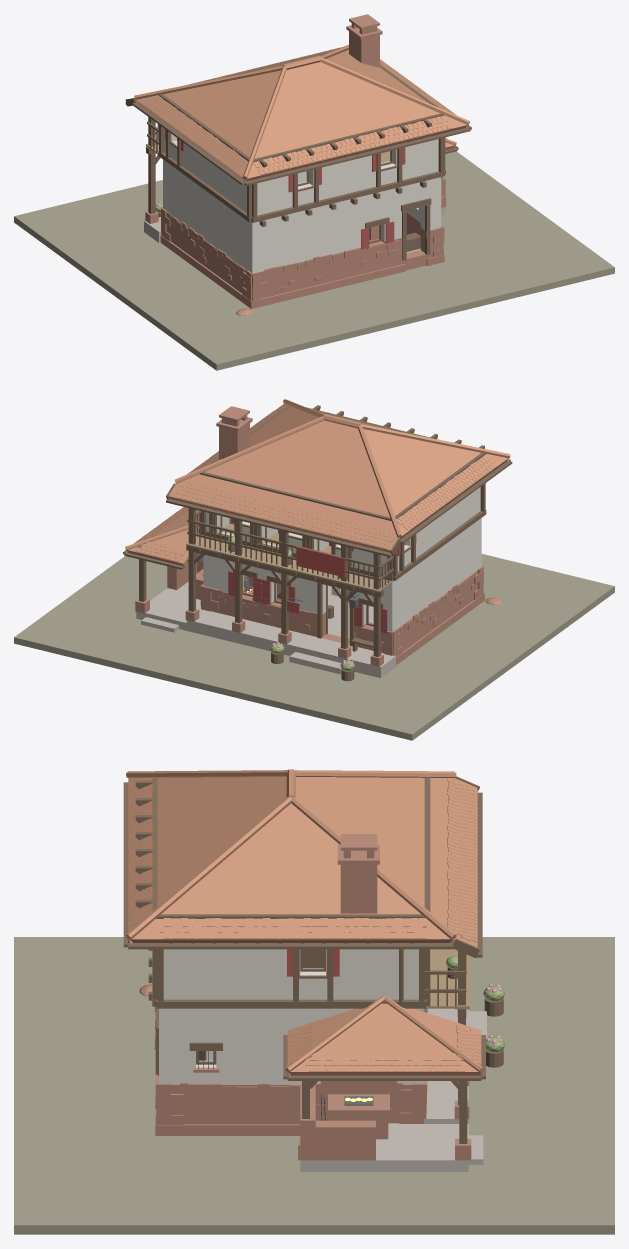
The model's file is tavern-13-gallery.glb.
The picture shows the model from 3 angles, top to bottom: view 1: azimuth 30°, elevation 25°; view 2: azimuth 150°, elevation 25°; view 3: azimuth 270°, elevation 25°; orthographic projection. The views are drawn at different scales.
Visible parts, largest first — view 1: zemlya__m00, krysha__m03, obolochka__m01, obolochka__m00, obolochka__m02, krysha__m02, krysha__m00, obolochka__m05; view 2: zemlya__m00, krysha__m03, obolochka__m02, obolochka__m01, obolochka__m00, obolochka__m11, krysha__m02, obolochka__m05, obolochka__m09, krysha__m00, poly__m11, melochi__m02; view 3: zemlya__m00, krysha__m03, obolochka__m01, obolochka__m00, obolochka__m02, obolochka__m11, krysha__m02, krysha__m00, mebel__m00, obolochka__m09, melochi__m02, melochi__m07.
Part boxes in pixels (x1,y1,x2,y2): zemlya__m00: [14, 151, 614, 370]; krysha__m03: [131, 45, 469, 181]; obolochka__m01: [163, 128, 441, 273]; obolochka__m00: [145, 177, 446, 308]; obolochka__m02: [146, 48, 445, 260]; krysha__m02: [125, 98, 471, 185]; krysha__m00: [346, 14, 382, 67]; obolochka__m05: [165, 129, 405, 249]; zemlya__m00: [14, 554, 614, 740]; krysha__m03: [125, 399, 510, 566]; obolochka__m02: [137, 405, 486, 656]; obolochka__m01: [203, 487, 481, 631]; obolochka__m00: [135, 560, 484, 666]; obolochka__m11: [136, 582, 395, 678]; krysha__m02: [123, 459, 512, 569]; obolochka__m05: [228, 518, 416, 633]; obolochka__m09: [186, 536, 393, 592]; krysha__m00: [216, 406, 252, 459]; poly__m11: [328, 585, 373, 638]; melochi__m02: [228, 544, 382, 681]; zemlya__m00: [14, 937, 614, 1234]; krysha__m03: [126, 769, 483, 1075]; obolochka__m01: [159, 949, 423, 1084]; obolochka__m00: [154, 1008, 471, 1160]; obolochka__m02: [135, 776, 472, 1143]; obolochka__m11: [300, 1008, 486, 1171]; krysha__m02: [123, 776, 485, 1080]; krysha__m00: [337, 834, 379, 913]; mebel__m00: [320, 1081, 397, 1139]; obolochka__m09: [426, 949, 469, 1008]; melochi__m02: [447, 967, 503, 1067]; melochi__m07: [446, 956, 504, 1052].
Size of the model in its own units: 18.65 by 8.96 by 16.43.
